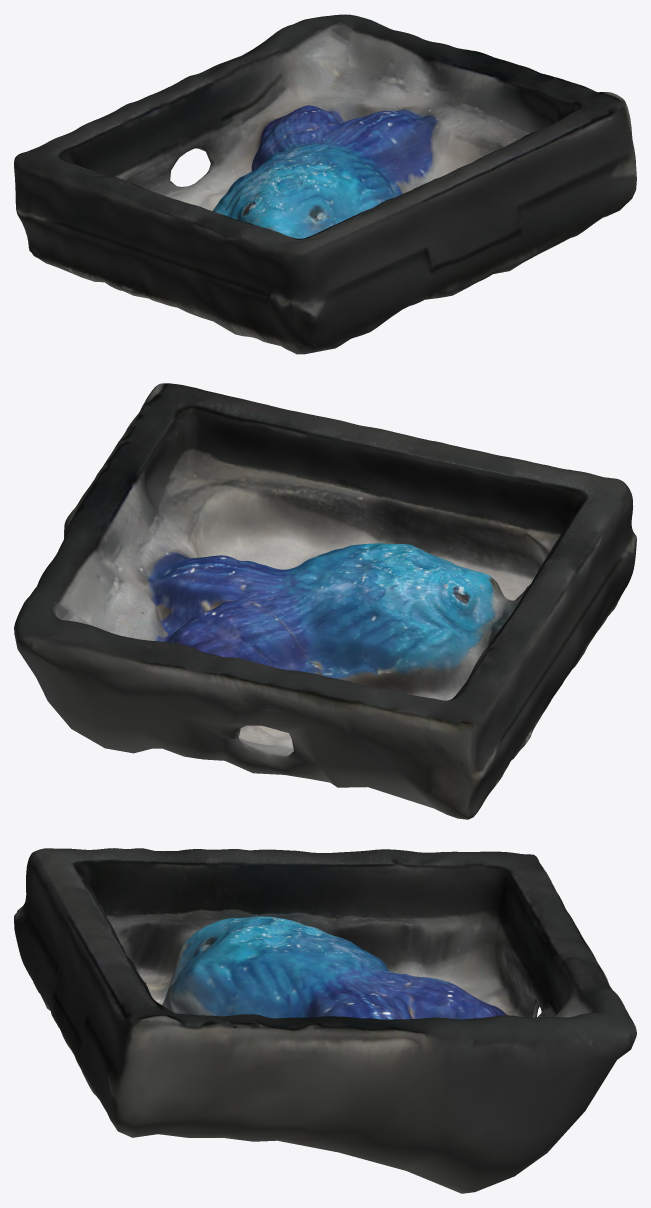
3 views of the same model, one above another, from view 1: azimuth 30°, elevation 25°; view 2: azimuth 150°, elevation 25°; view 3: azimuth 270°, elevation 25° (orthographic). The views are drawn at different scales.
Size of the model in its own units: 0.7053 by 0.2951 by 0.7187.
Materials: 1 (1 with a texture image).
